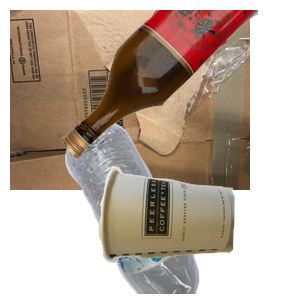cardboard: (10, 10, 250, 190)
glass: (60, 10, 300, 163)
plastic: (63, 120, 263, 300)
trash: (95, 164, 300, 300)
